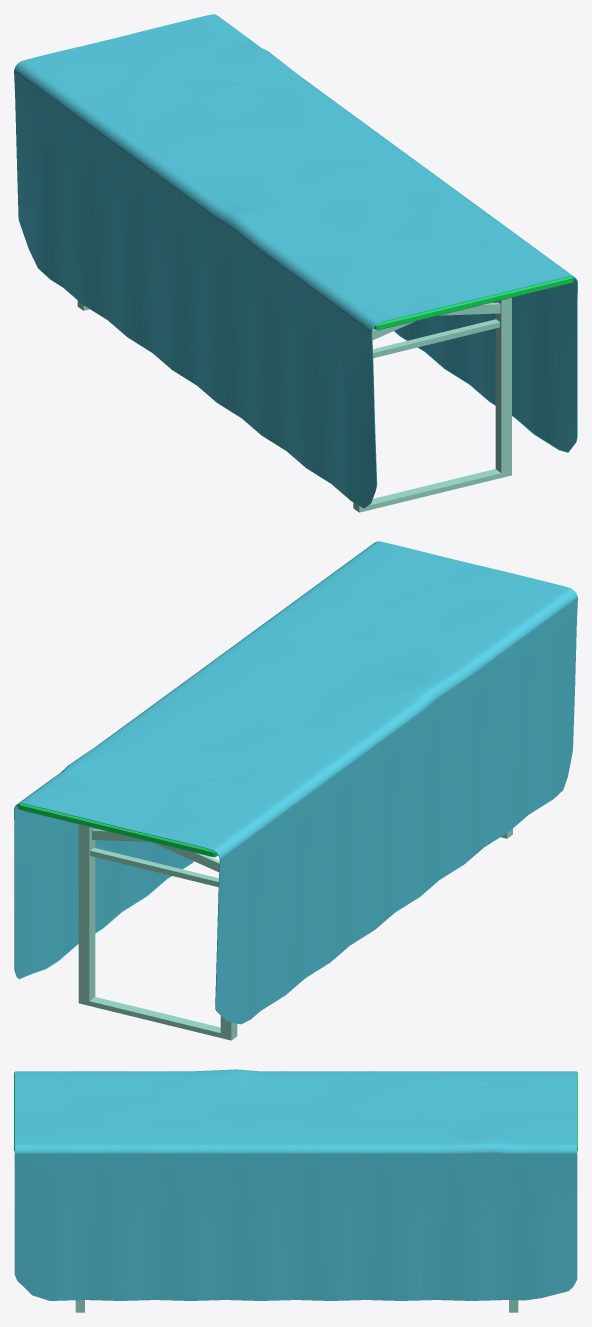
Rendered from beerTableB.fbx.
3 views of the same model, one above another, from view 1: azimuth 30°, elevation 25°; view 2: azimuth 150°, elevation 25°; view 3: azimuth 270°, elevation 25° (orthographic). The views are drawn at different scales.
Parts seen in each view (by area): view 1: beerTableB; view 2: beerTableB; view 3: beerTableB.
Part boxes in pixels (x1,y1,x2,y2): beerTableB: [14, 14, 577, 512]; beerTableB: [14, 541, 577, 1040]; beerTableB: [14, 1069, 577, 1312].
Size of the model in its own units: 74.37 by 76.39 by 220.
